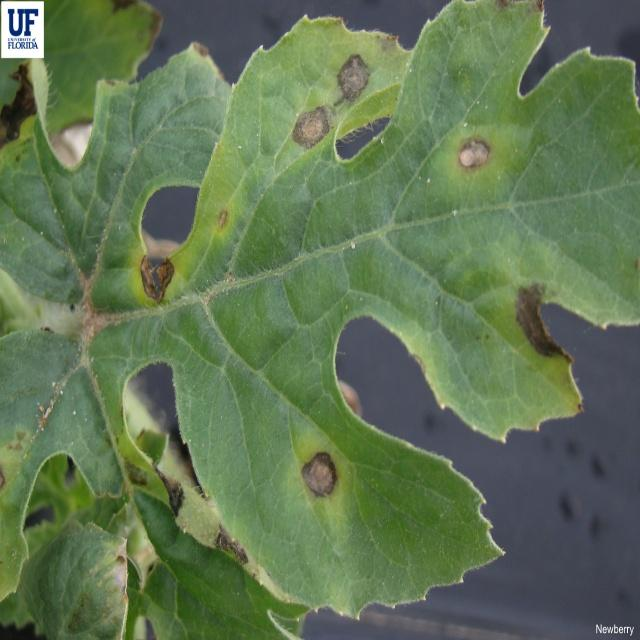leaf_spot: (90, 0, 640, 640)
